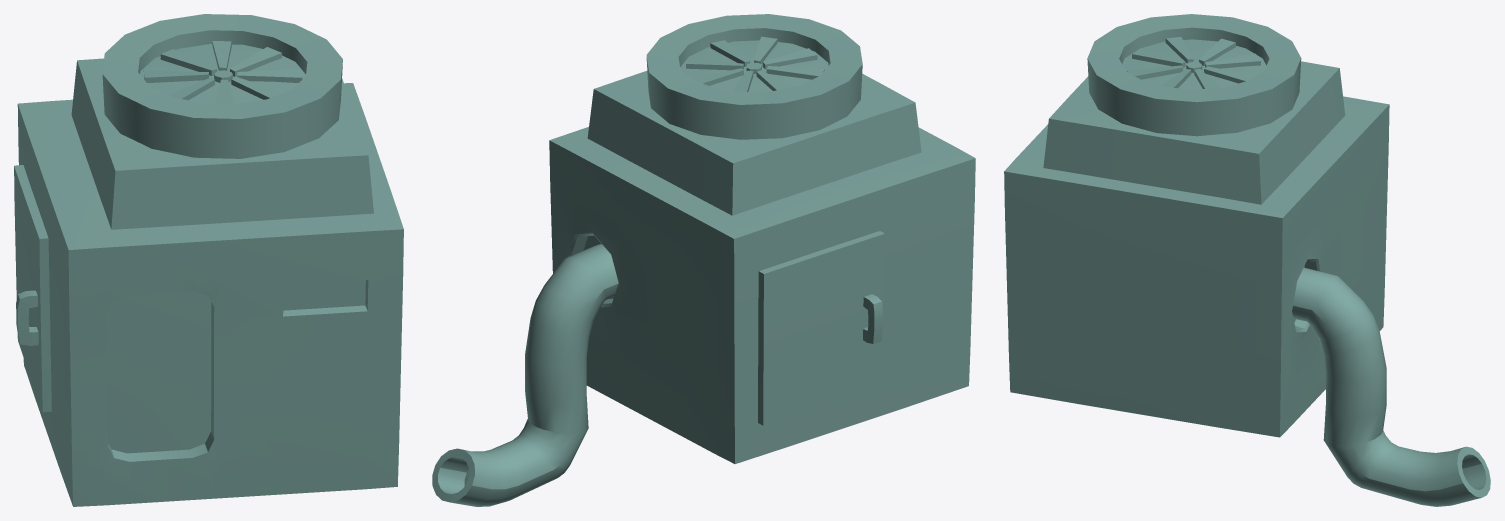
Rendered from air conditioner pipe.fbx.
3 renders of one model, left to right at view 1: azimuth 30°, elevation 25°; view 2: azimuth 150°, elevation 25°; view 3: azimuth 270°, elevation 25°, orthographic. The views are drawn at different scales.
Visible parts, largest first — view 1: air conditioner pipe; view 2: air conditioner pipe; view 3: air conditioner pipe.
Boxes of the visible parts, x1=… form: air conditioner pipe: x1=14, y1=14, x2=403, y2=506; air conditioner pipe: x1=432, y1=14, x2=975, y2=506; air conditioner pipe: x1=1004, y1=14, x2=1490, y2=506.
Size of the model in its own units: 681 by 702 by 820.
